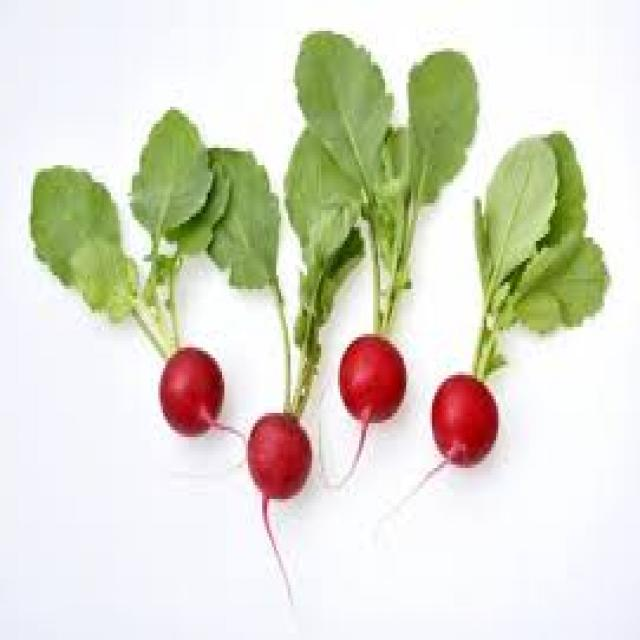organic waste: (293, 31, 477, 478), (201, 145, 359, 602), (427, 130, 607, 488), (31, 162, 243, 444)
